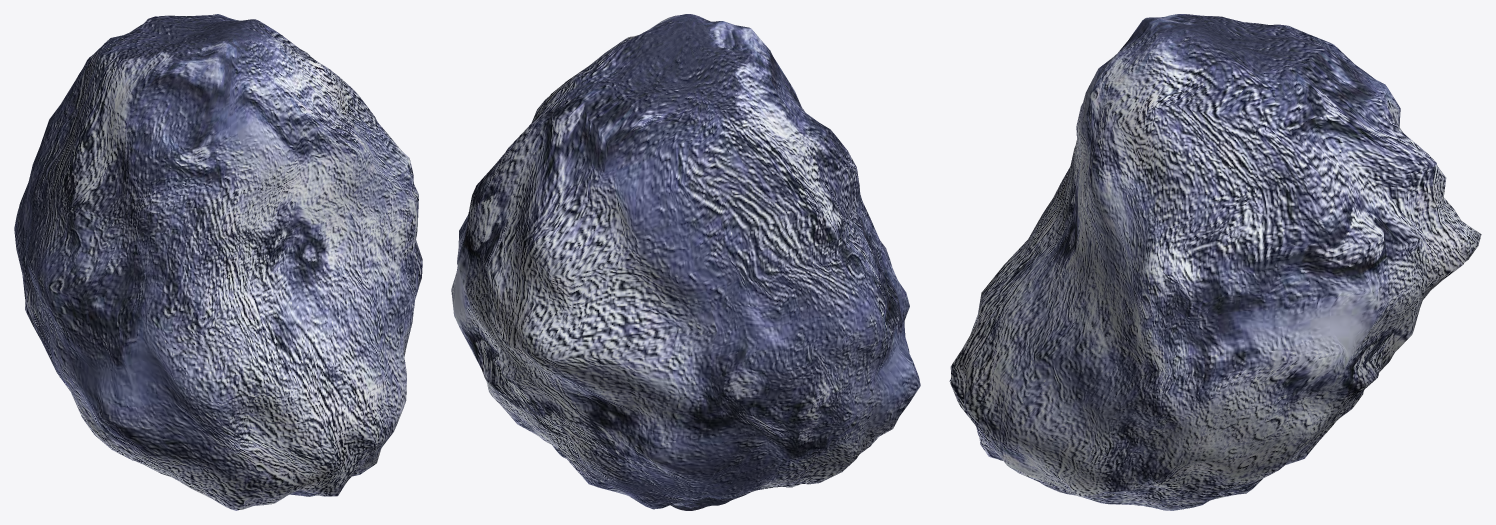
File: asteroid1.FBX
3 renders of one model, left to right at view 1: azimuth 30°, elevation 25°; view 2: azimuth 150°, elevation 25°; view 3: azimuth 270°, elevation 25°, orthographic. The views are drawn at different scales.
Parts seen in each view (by area): view 1: Asteroid; view 2: Asteroid; view 3: Asteroid.
Boxes of the visible parts, <box> form: Asteroid: <box>14,14,422,510</box>; Asteroid: <box>451,14,920,510</box>; Asteroid: <box>949,14,1481,510</box>.
Size of the model in its own units: 206 by 240 by 248.
1 material, 1 textured.
